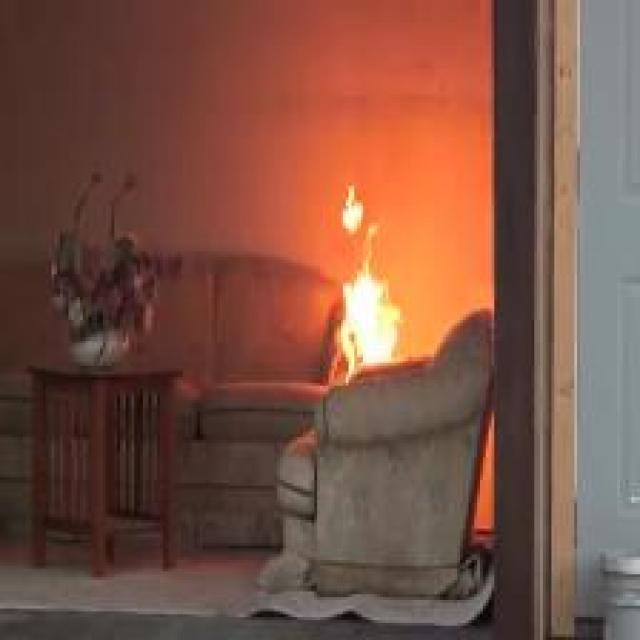Fire: (338, 185, 402, 388)
